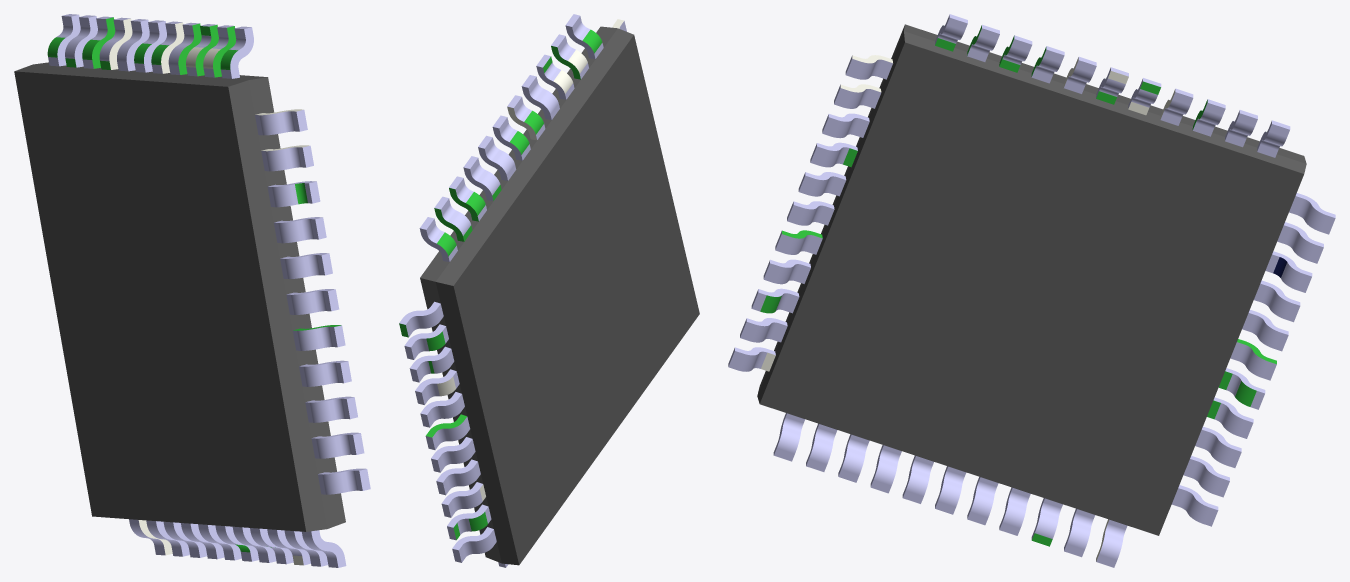
File: EBoxNewAsm_stp_1_IMC413_1_stp_1_IMC413_1_32_stp_1_solid1.obj
3 views of the same model, side by side, from view 1: azimuth 30°, elevation 25°; view 2: azimuth 150°, elevation 25°; view 3: azimuth 270°, elevation 25° (orthographic). The views are drawn at different scales.
Parts seen in each view (by area): view 1: mesh6257, mesh6256, mesh6388, mesh6390, mesh6400, mesh6821; view 2: mesh6257, mesh6390, mesh6535, mesh6521, mesh6666; view 3: mesh6389, mesh6521, mesh6388, mesh6390.
Boxes of the visible parts, x1,y1,x2,y2 form: mesh6257: (14, 71, 305, 531); mesh6256: (228, 80, 327, 531); mesh6388: (249, 77, 345, 528); mesh6390: (15, 64, 248, 86); mesh6400: (230, 27, 253, 78); mesh6821: (311, 530, 346, 567); mesh6257: (453, 35, 699, 564); mesh6390: (436, 28, 633, 285); mesh6535: (435, 282, 518, 565); mesh6521: (420, 26, 617, 281); mesh6666: (420, 278, 501, 563); mesh6389: (760, 42, 1303, 535); mesh6521: (904, 31, 1306, 173); mesh6388: (757, 31, 904, 403); mesh6390: (904, 24, 1306, 163).
Bounding box in the file's own units: 0.0012 × 0.0142 × 0.0142.
